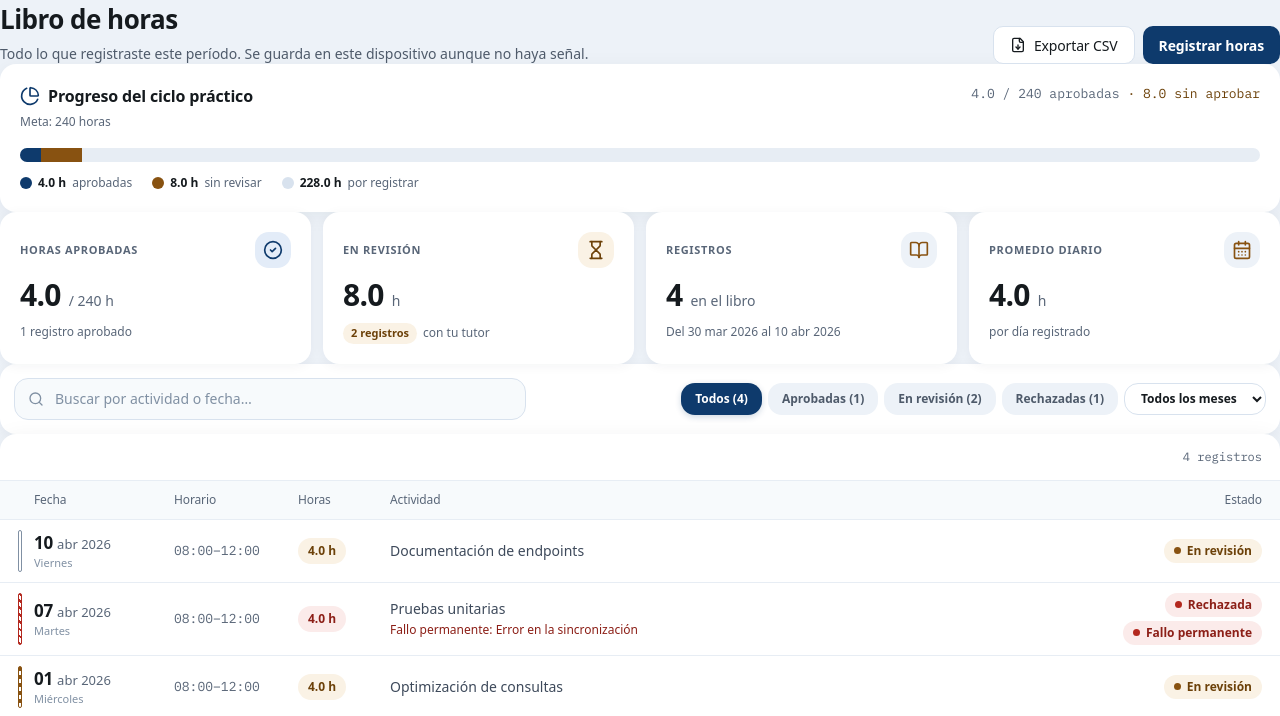
Test: libro de horas rediseñado (REDISEÑO-4) › filtros › al elegir un estado solo quedan esos registros y el conteo de la tabla se ajusta
Click the button "En revisión (2)". click: (940, 398)
box: [884,382,996,414]
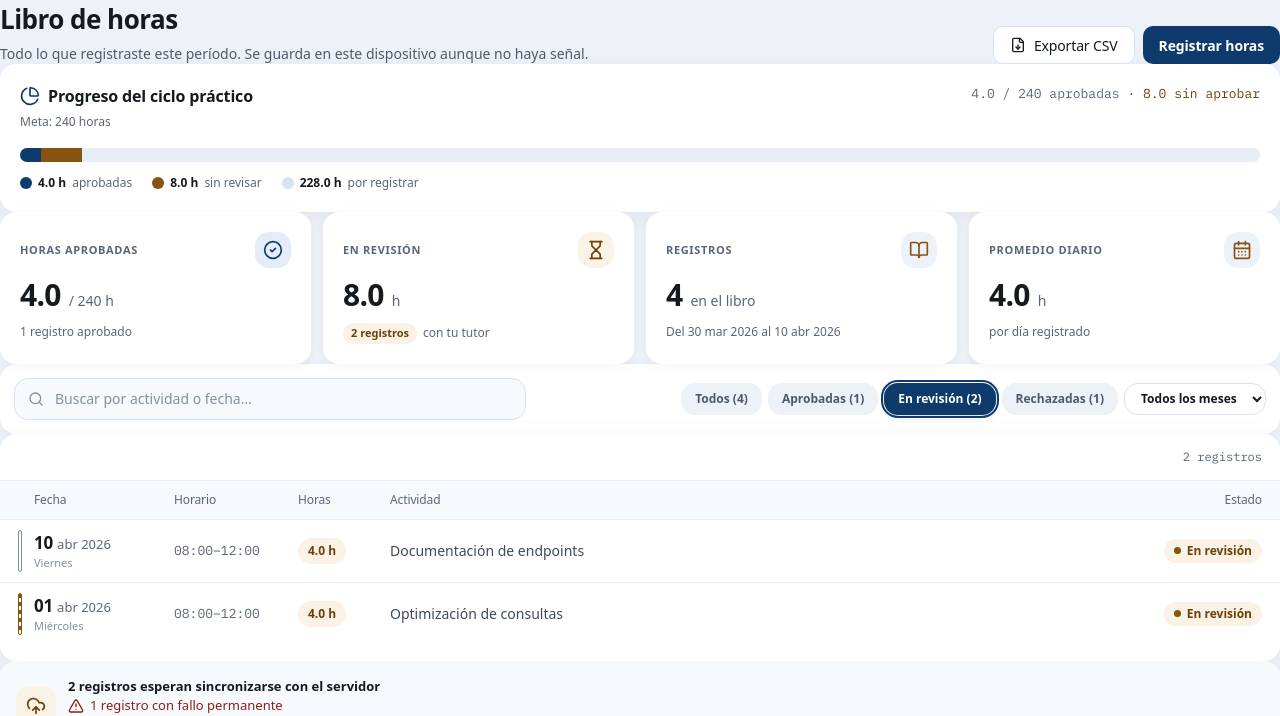
Expected: the text "Optimización de consultas" is shown, [390,604,563,623]
Expected: the text "Pruebas unitarias" is gone
Expected: the 2nd text "2 registros" is shown, [1183,448,1262,466]
